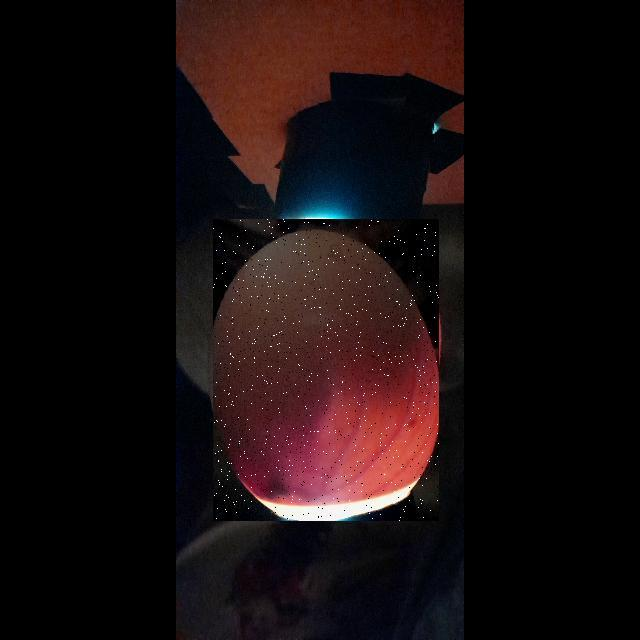Fertile: (213, 219, 439, 521)
